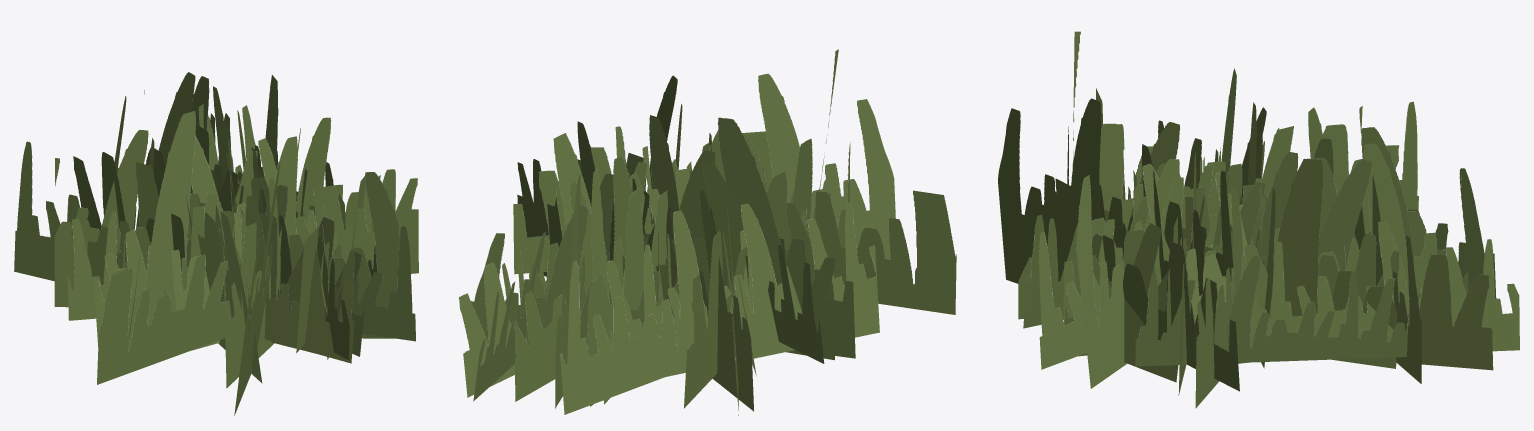
File: testgrass.glb
The picture shows the model from 3 angles, left to right: view 1: azimuth 30°, elevation 25°; view 2: azimuth 150°, elevation 25°; view 3: azimuth 270°, elevation 25°; orthographic projection. The views are drawn at different scales.
Visible parts, largest first — view 1: g_7, g_8, g_5, g_3, g_4, g_6, g_2, g_1; view 2: g_7, g_8, g_3, g_4, g_5, g_2, g_6, g_1; view 3: g_5, g_7, g_8, g_6, g_3, g_4, g_1, g_2.
Boxes of the visible parts, x1,y1,x2,y2 form: g_7: (67, 72, 365, 415); g_8: (73, 111, 380, 359); g_5: (144, 75, 398, 388); g_3: (14, 96, 415, 341); g_4: (119, 86, 418, 363); g_6: (54, 129, 377, 350); g_2: (128, 145, 349, 360); g_1: (198, 104, 328, 310); g_7: (591, 49, 956, 404); g_8: (513, 117, 834, 408); g_3: (526, 104, 753, 415); g_4: (514, 121, 743, 401); g_5: (459, 75, 850, 408); g_2: (606, 202, 879, 376); g_6: (502, 115, 806, 411); g_1: (471, 205, 693, 350); g_5: (1067, 126, 1519, 388); g_7: (998, 31, 1413, 368); g_8: (1055, 68, 1426, 391); g_6: (1104, 106, 1409, 395); g_3: (1039, 101, 1496, 369); g_4: (1023, 107, 1468, 408); g_1: (1098, 175, 1421, 383); g_2: (1018, 120, 1364, 319).
Size of the model in its own units: 1.79 by 1.11 by 2.03.
Materials: 1 (1 with a texture image).
